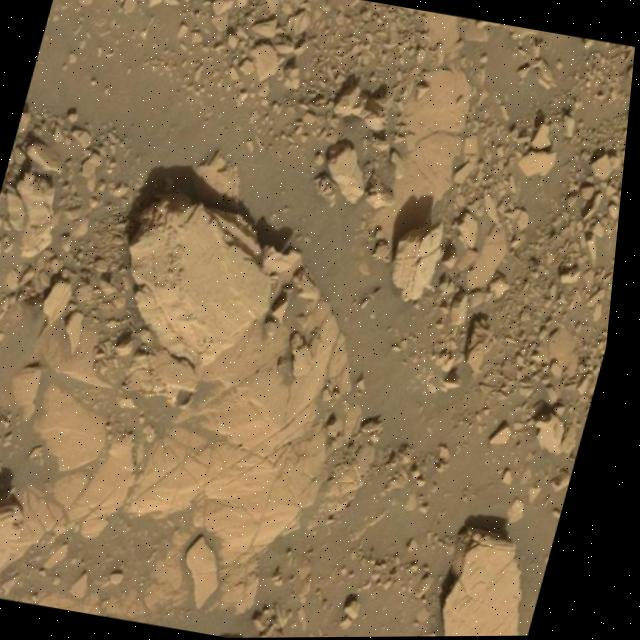mars-rocks: (133, 193, 274, 367), (454, 530, 532, 637), (396, 224, 446, 300), (328, 138, 367, 203), (333, 81, 386, 128), (0, 496, 31, 575)
